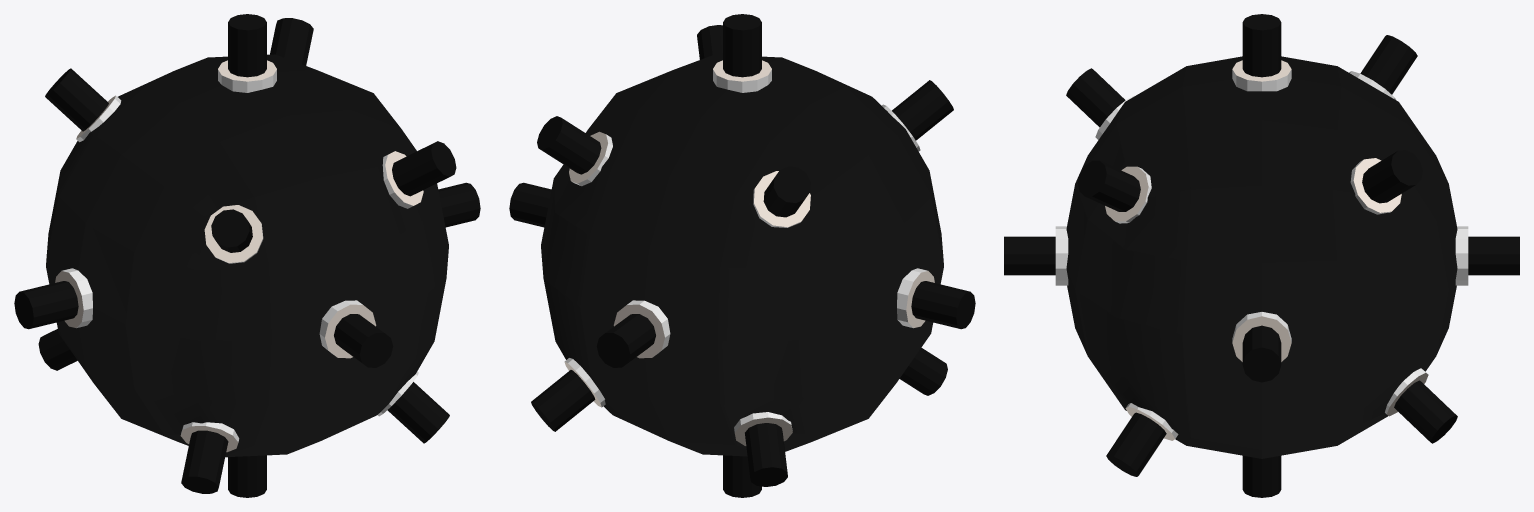
File: MineBomb.fbx
3 renders of one model, left to right at view 1: azimuth 30°, elevation 25°; view 2: azimuth 150°, elevation 25°; view 3: azimuth 270°, elevation 25°, orthographic.
Visible parts, largest first — view 1: Cube, Cylinder; view 2: Cube, Cylinder; view 3: Cube, Cylinder.
Part boxes in pixels (x1,y1,x2,y2): Cube: (46, 54, 448, 457); Cylinder: (14, 14, 480, 497); Cube: (541, 54, 943, 456); Cylinder: (509, 14, 975, 497); Cube: (1066, 56, 1457, 458); Cylinder: (1004, 14, 1519, 497).
Bounding box in the file's own units: 2.16 × 2.16 × 2.16.
